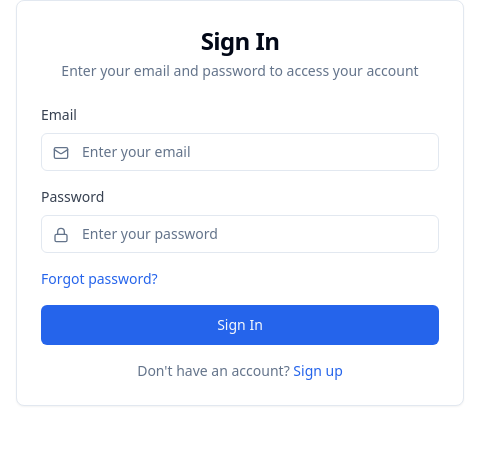
it: SignInForm Security › Email Input Security › should validate email format
The image size is (481, 451).
Type "invalid-email" into the field labelled "Email". click: (240, 152)
box: [41,133,439,171]
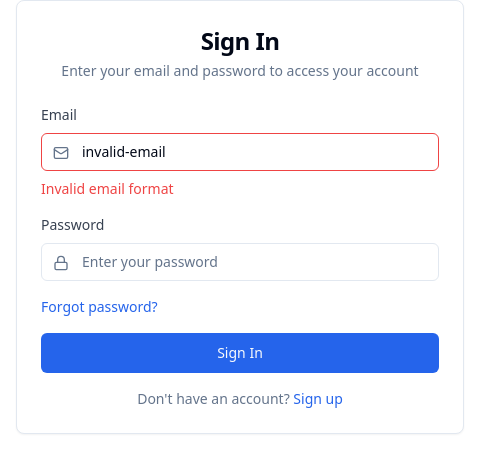
Now the text "Invalid email format" is shown, box [41,179,174,198]
